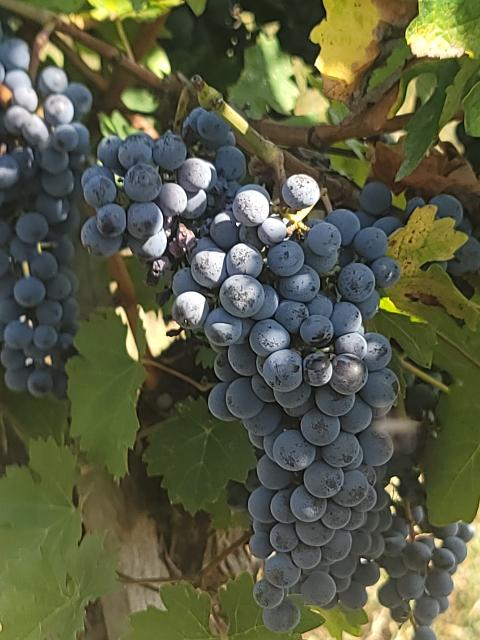grapes: (172, 175, 400, 630), (0, 38, 92, 400), (80, 108, 246, 285), (378, 516, 474, 640)
